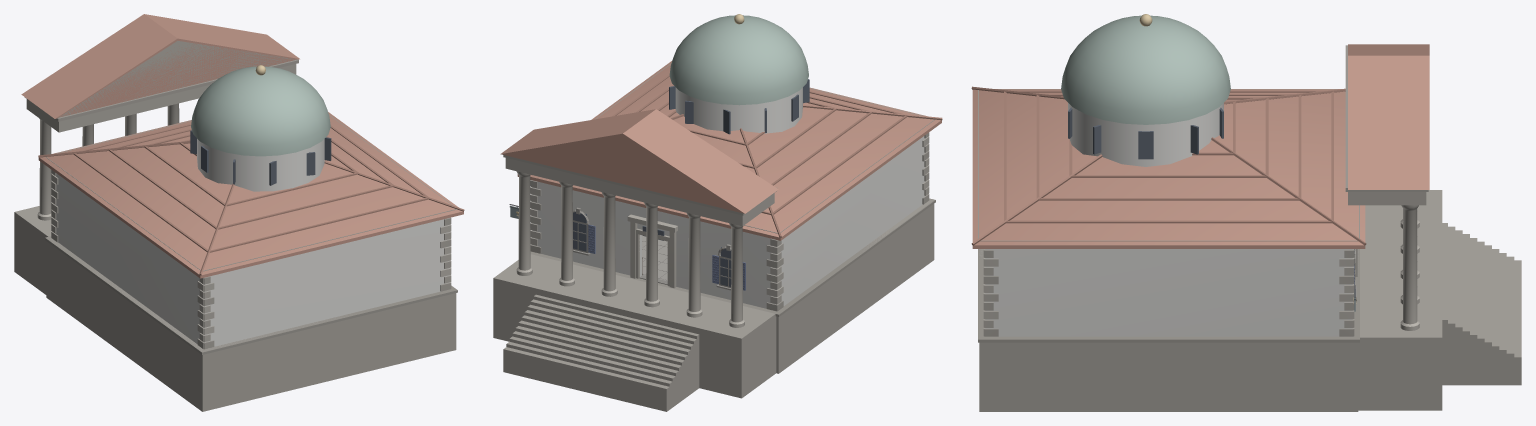
File: trophy_hall_4.gltf
3 views of the same model, side by side, from view 1: azimuth 30°, elevation 25°; view 2: azimuth 150°, elevation 25°; view 3: azimuth 270°, elevation 25° (orthographic). The views are drawn at different scales.
Visible parts, largest first — view 1: Body; view 2: Body; view 3: Body.
Boxes of the visible parts, x1,y1,x2,y2 form: Body: (14,14,464,411); Body: (493,14,942,411); Body: (971,14,1521,411).
Bounding box in the file's own units: 16.9 × 15.48 × 23.95.
